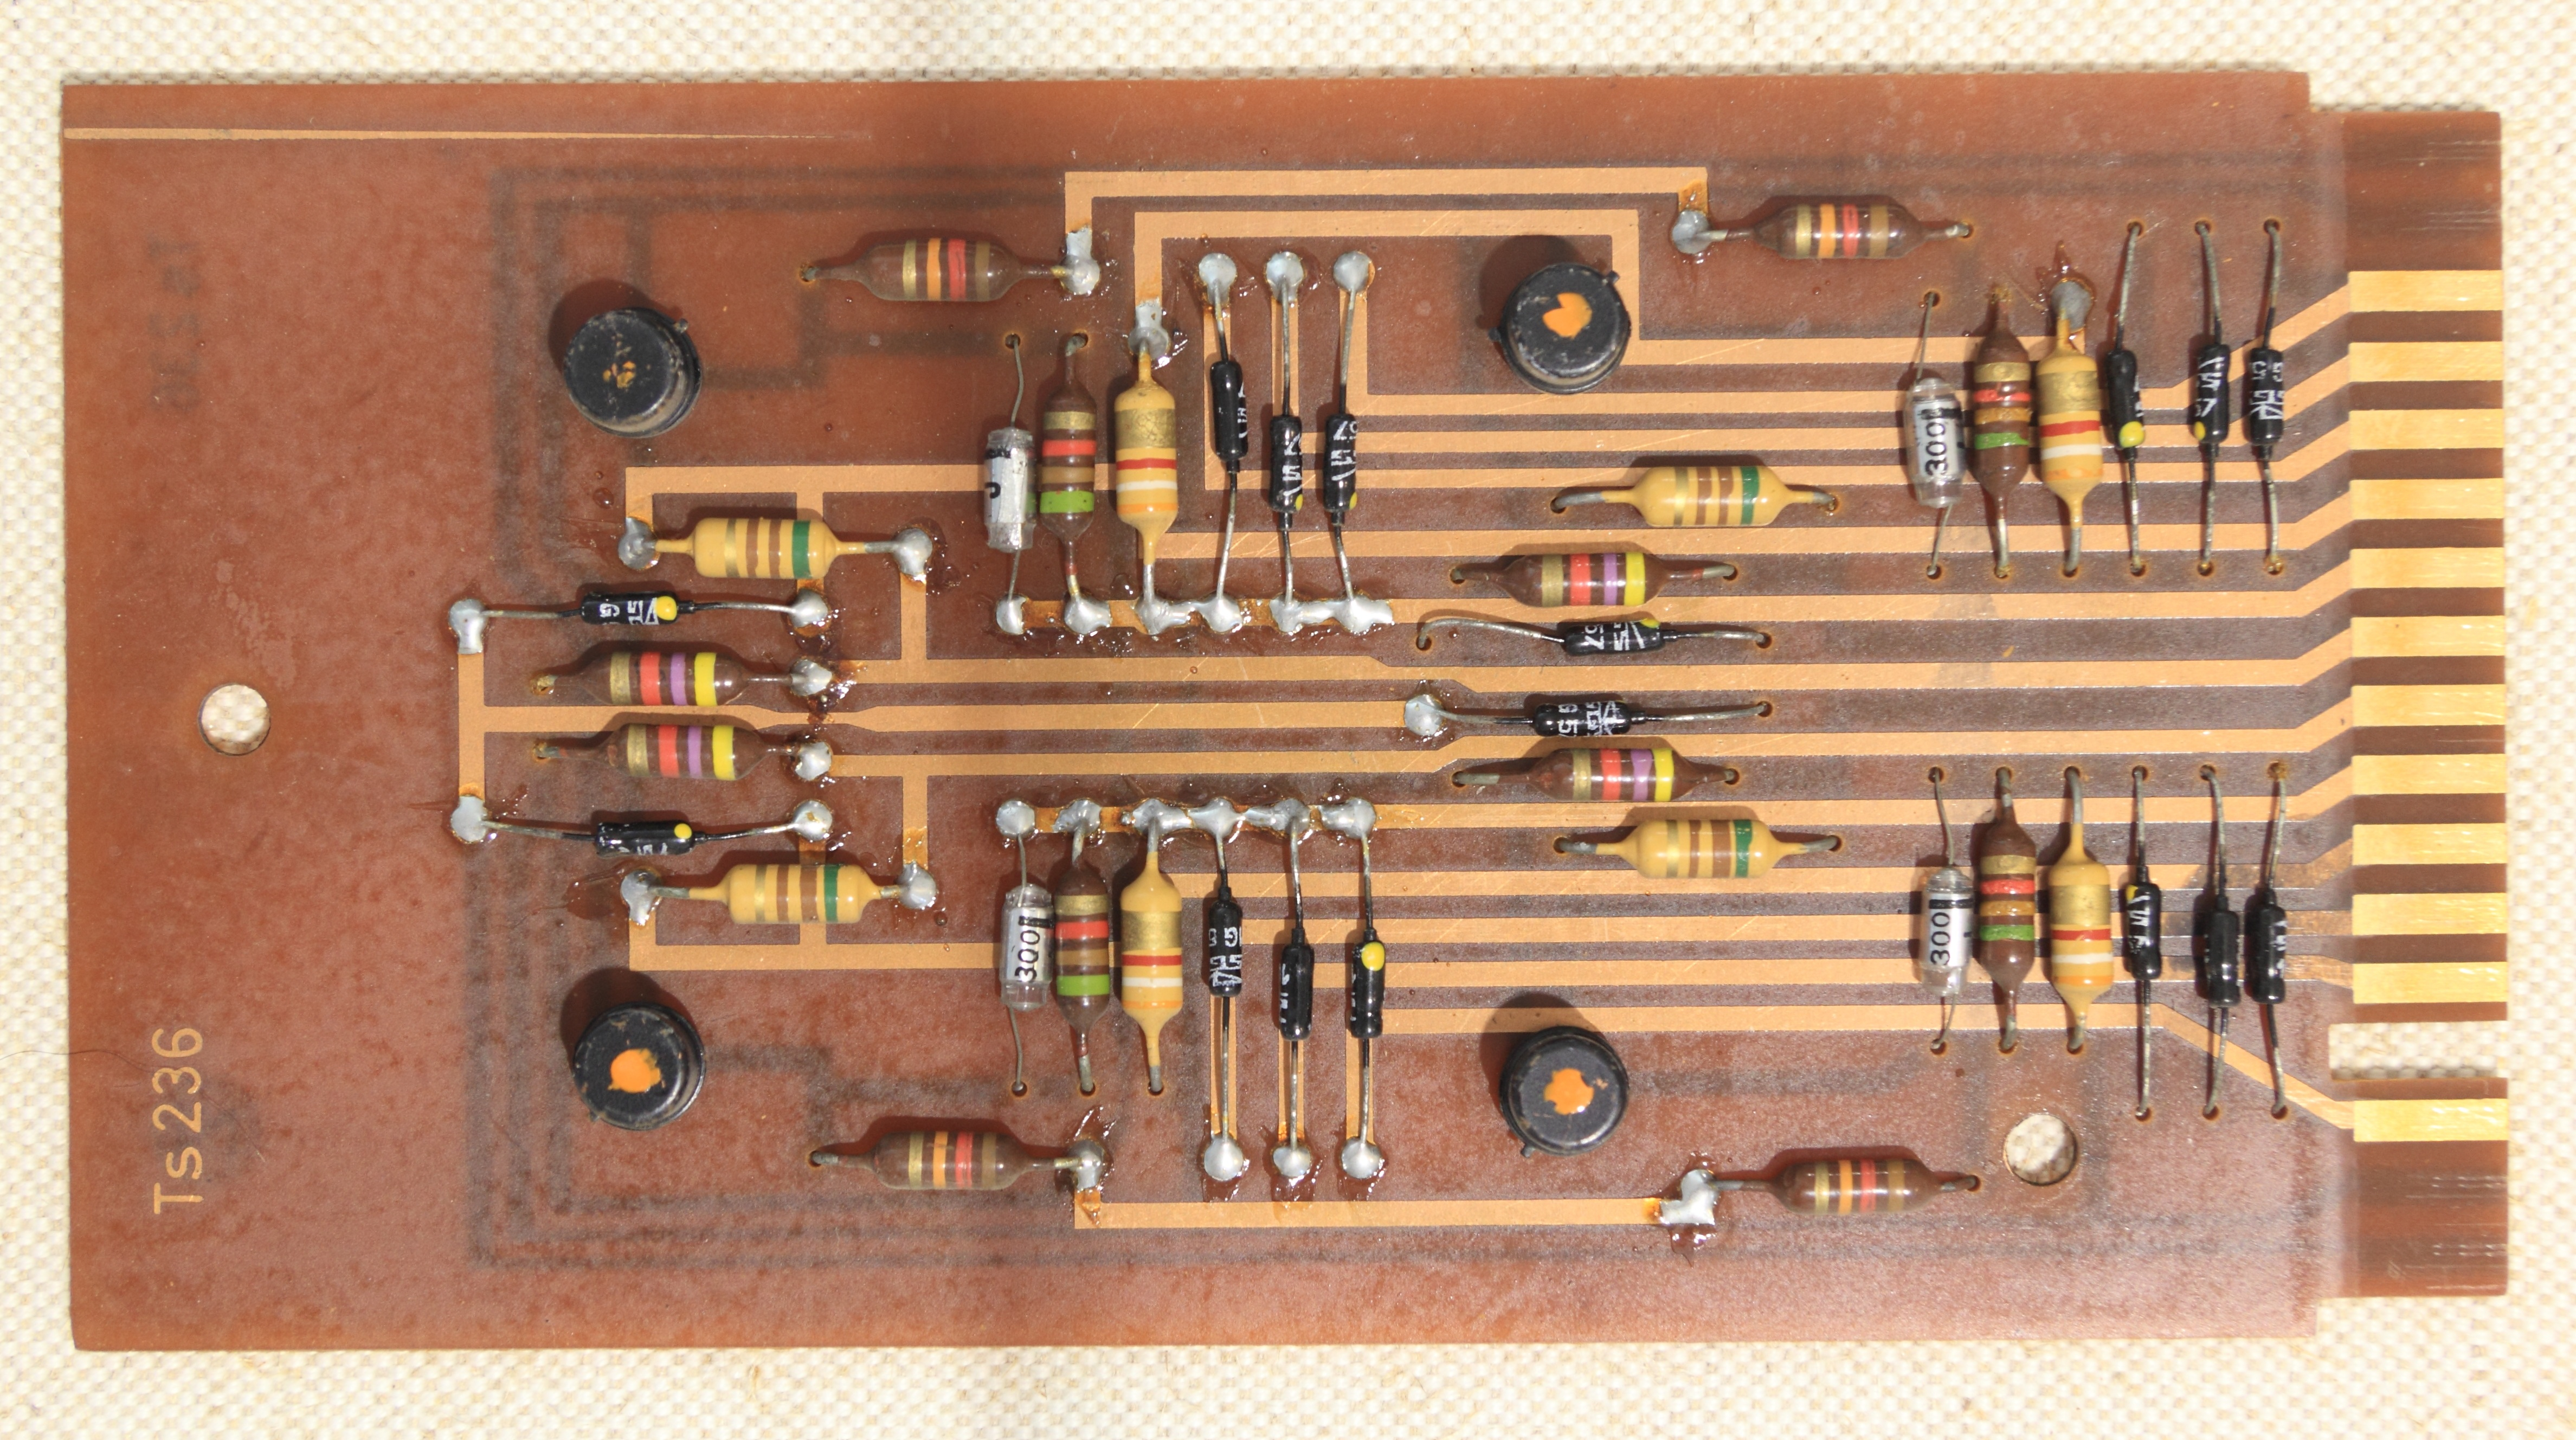Resistor: (1753, 1139, 1951, 1233), (842, 226, 1037, 318), (851, 1114, 1044, 1205), (697, 853, 901, 938), (554, 635, 775, 713), (1116, 851, 1194, 1063), (1741, 189, 1936, 274), (1966, 807, 2047, 1008), (672, 504, 865, 587), (1023, 366, 1109, 550), (1042, 853, 1122, 1051), (2045, 824, 2125, 1021), (1109, 364, 1192, 550), (579, 715, 789, 787), (2036, 329, 2112, 527), (1525, 743, 1709, 823), (1962, 311, 2035, 513), (1484, 540, 1675, 612), (1612, 458, 1794, 529), (1612, 810, 1798, 879)
